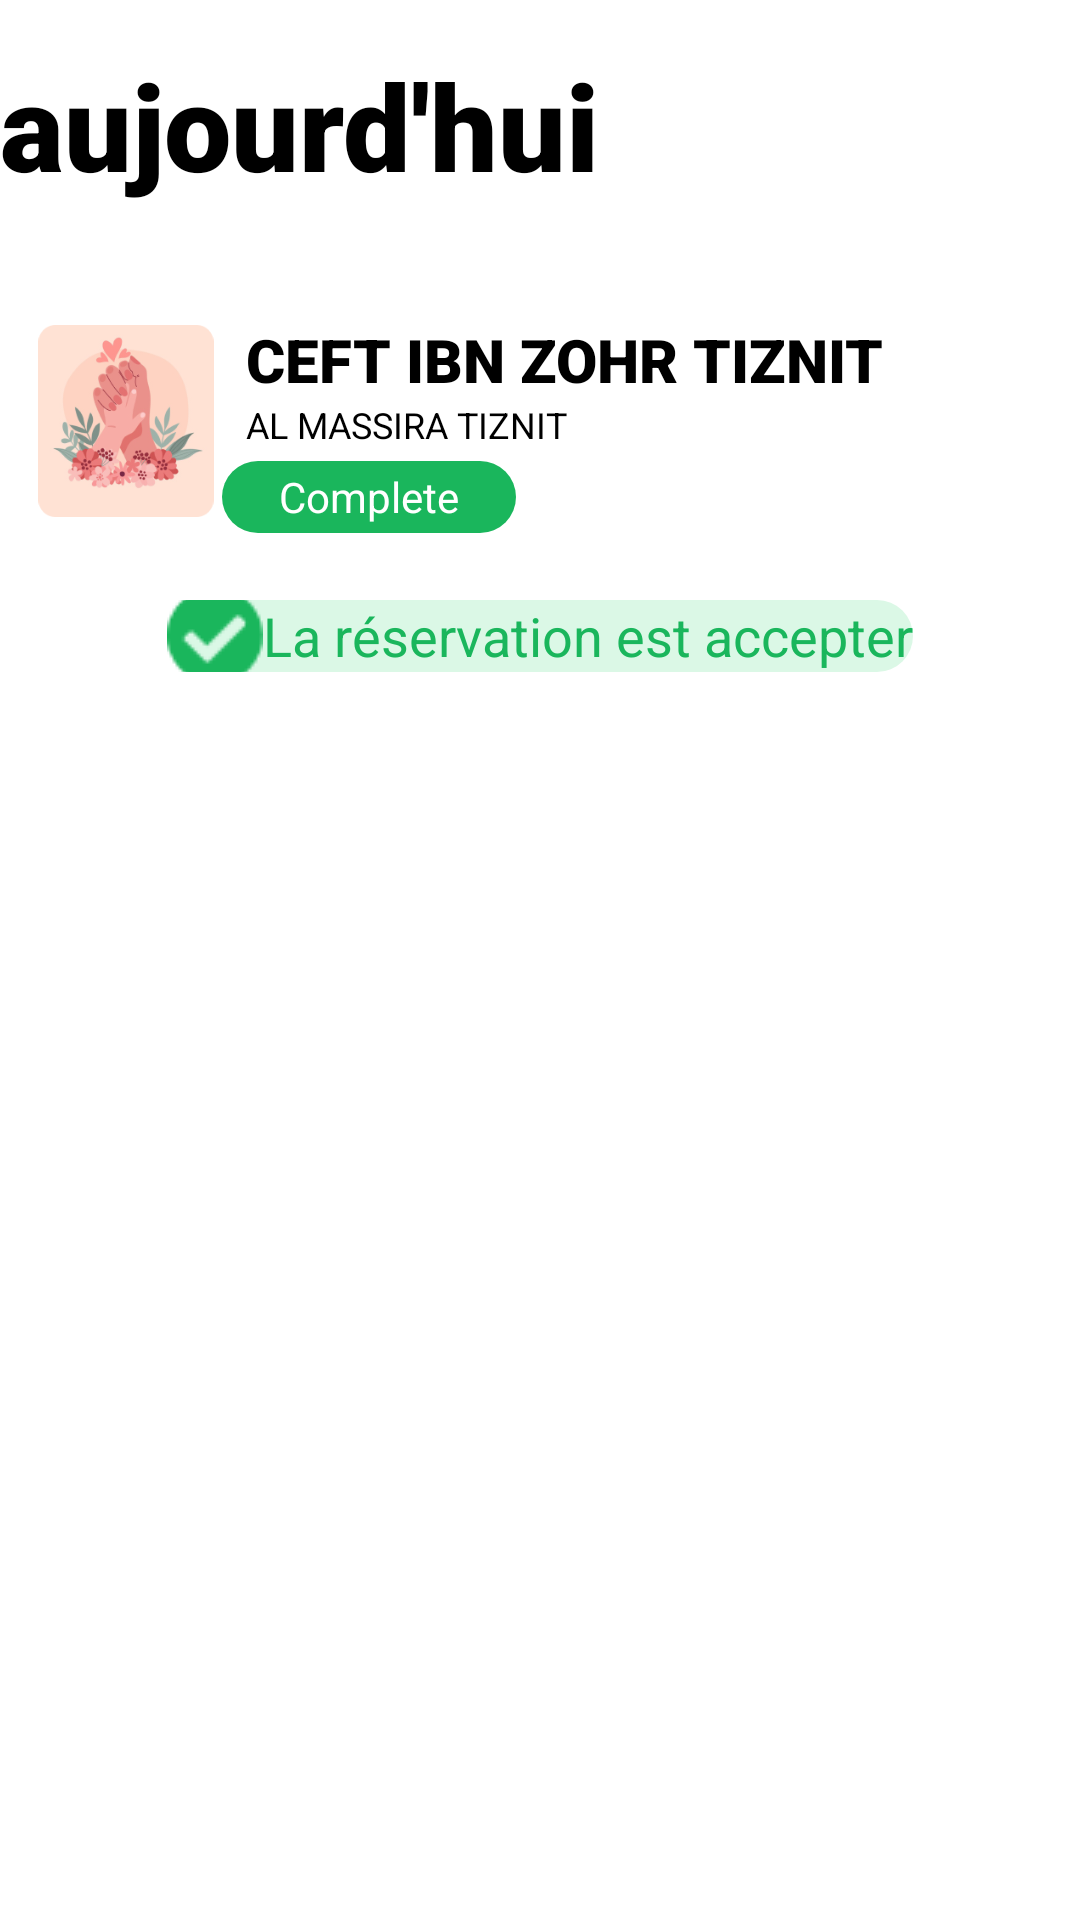

Screen size 1080px×1920px. Icon name, then its center in pixels as [x,y]:
exphotolist: [126,421]
